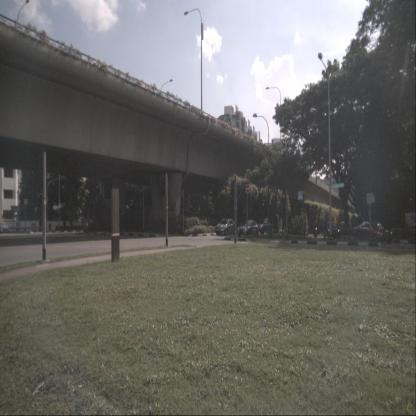vehicle-car: (354, 221, 392, 244), (237, 220, 259, 237), (216, 219, 236, 236), (322, 222, 340, 239), (254, 220, 272, 235), (0, 221, 9, 234)
vehicle-motorcycle: (314, 220, 318, 239)
